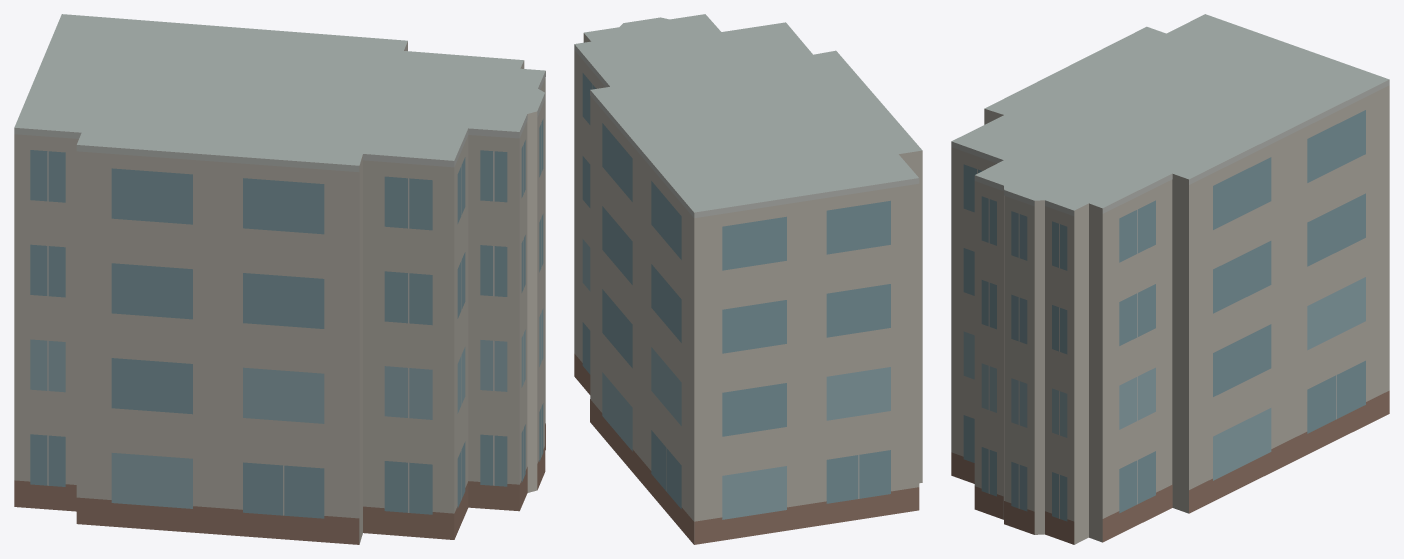
Rendered from survey-upis-32616601.glb.
3 renders of one model, left to right at view 1: azimuth 30°, elevation 25°; view 2: azimuth 150°, elevation 25°; view 3: azimuth 270°, elevation 25°, orthographic. The views are drawn at different scales.
Parts seen in each view (by area): view 1: survey-upis-32616601.tmp; view 2: survey-upis-32616601.tmp; view 3: survey-upis-32616601.tmp.
Part boxes in pixels (x1,y1,x2,y2): survey-upis-32616601.tmp: (14, 14, 545, 544); survey-upis-32616601.tmp: (574, 14, 922, 544); survey-upis-32616601.tmp: (951, 14, 1389, 544).
Size of the model in its own units: 17.99 by 14.25 by 16.95.
